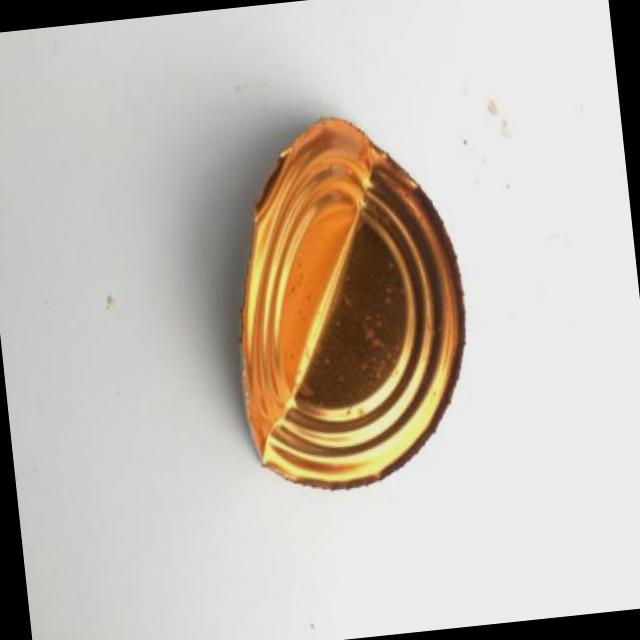kim_loai: (240, 118, 464, 488)
